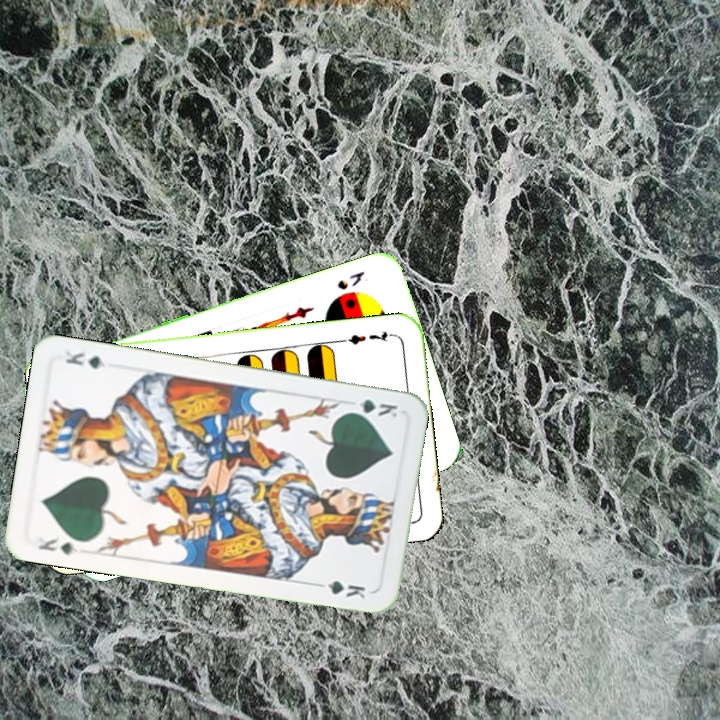E7: (338, 328, 397, 347)
GK: (342, 395, 400, 421), (34, 533, 80, 557)
SK: (333, 267, 367, 293)
